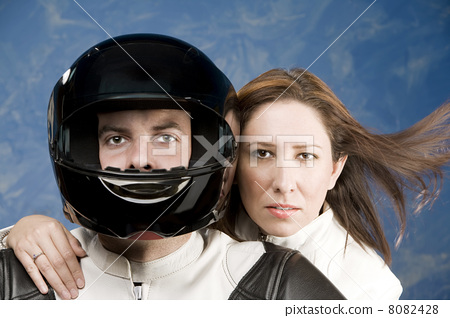helmet: (54, 49, 245, 215)
